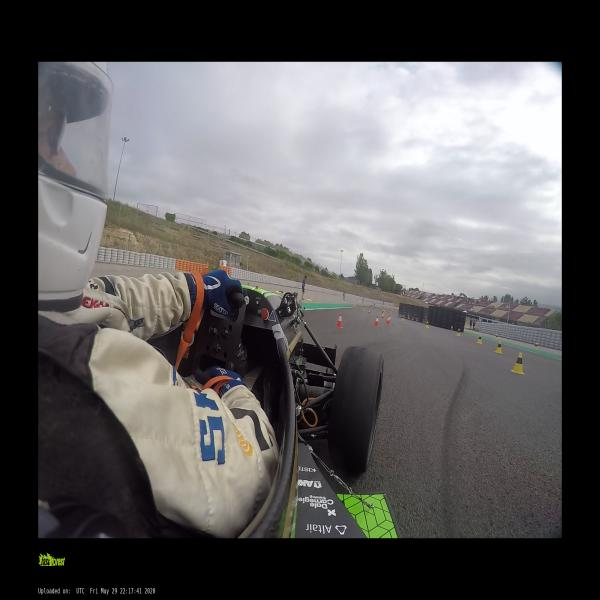orange_cone: (335, 313, 343, 329), (374, 317, 379, 326), (386, 316, 390, 325), (381, 314, 384, 320), (450, 325, 453, 331), (388, 315, 390, 322), (368, 309, 370, 314)
yellow_cone: (511, 353, 524, 375), (494, 341, 503, 354), (476, 335, 482, 345), (455, 329, 461, 336), (425, 322, 429, 328), (401, 316, 404, 321)
